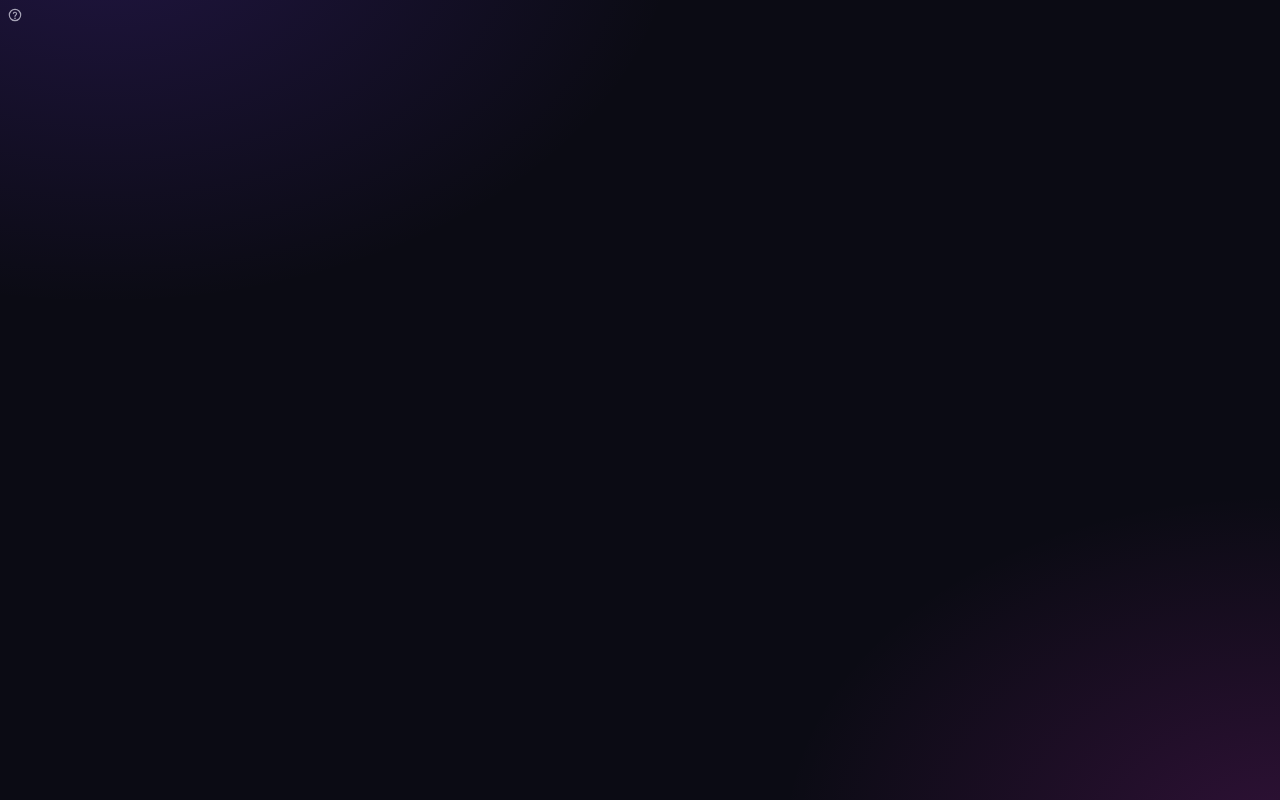
Test: HelpButton › renders its popover outside clipping containers and closes with Escape
Click the button named "Ayuda" at (15, 15), box [0,0,30,30]
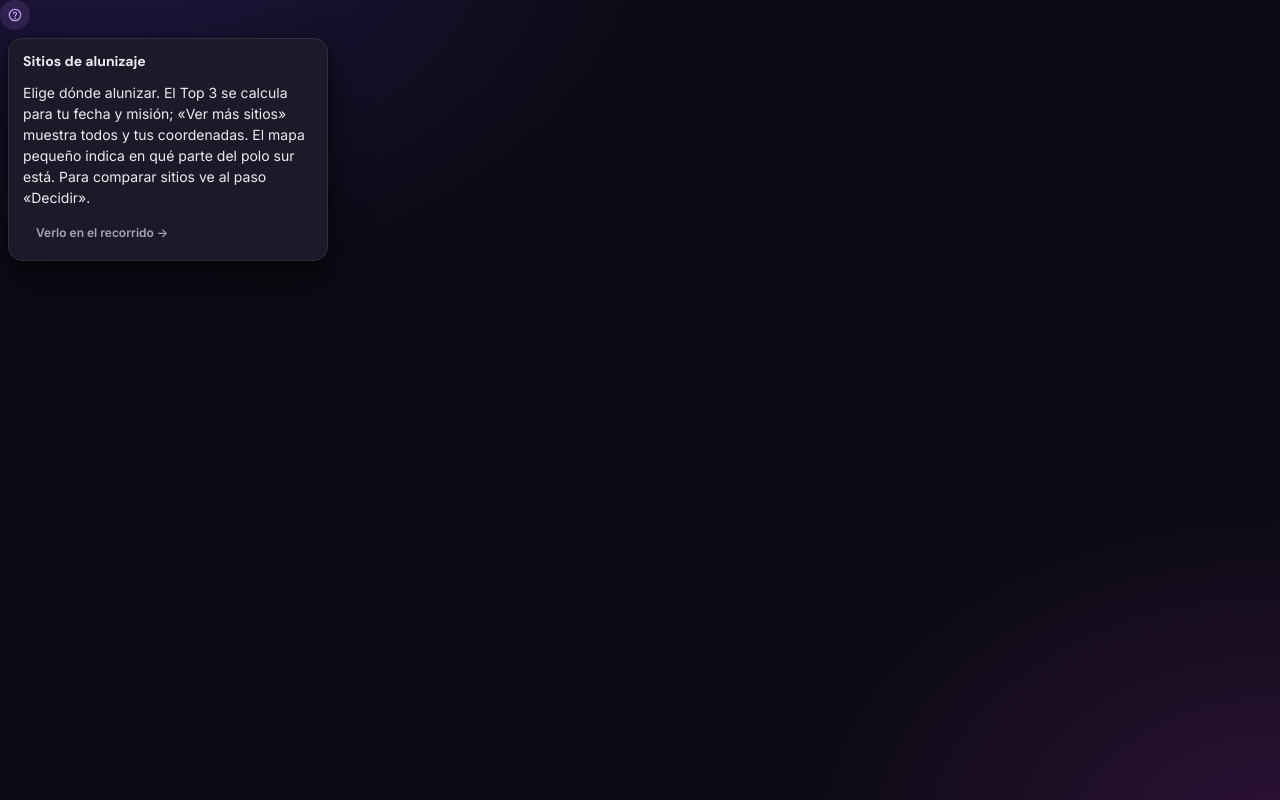
Result: the dialog shows "Elige dónde alunizar" at [23,84,305,206]
Press Escape
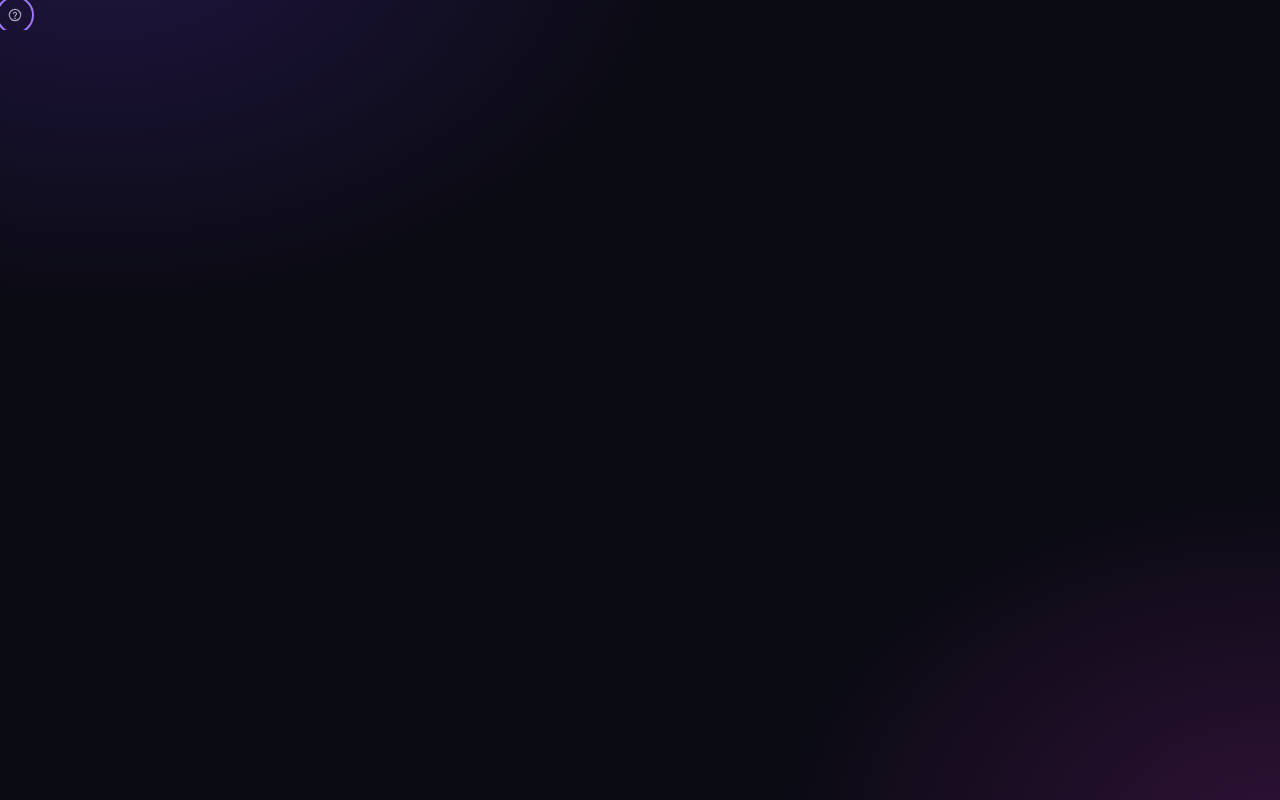
Result: the dialog is gone
